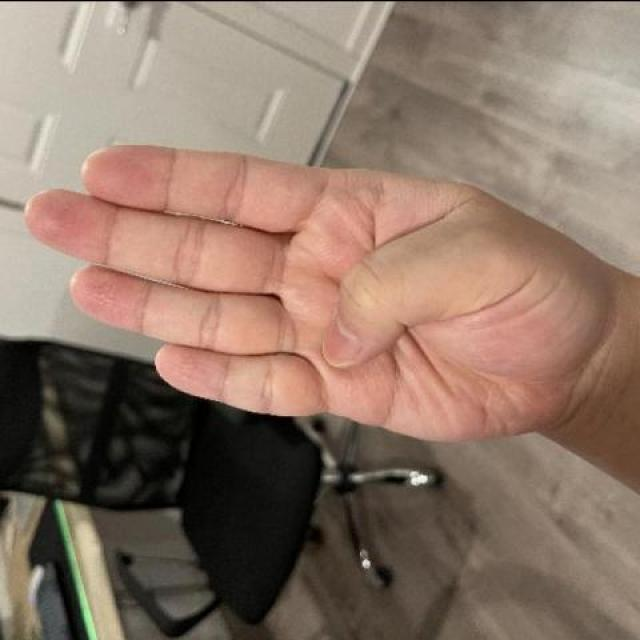Open Hand: (17, 139, 610, 445)
